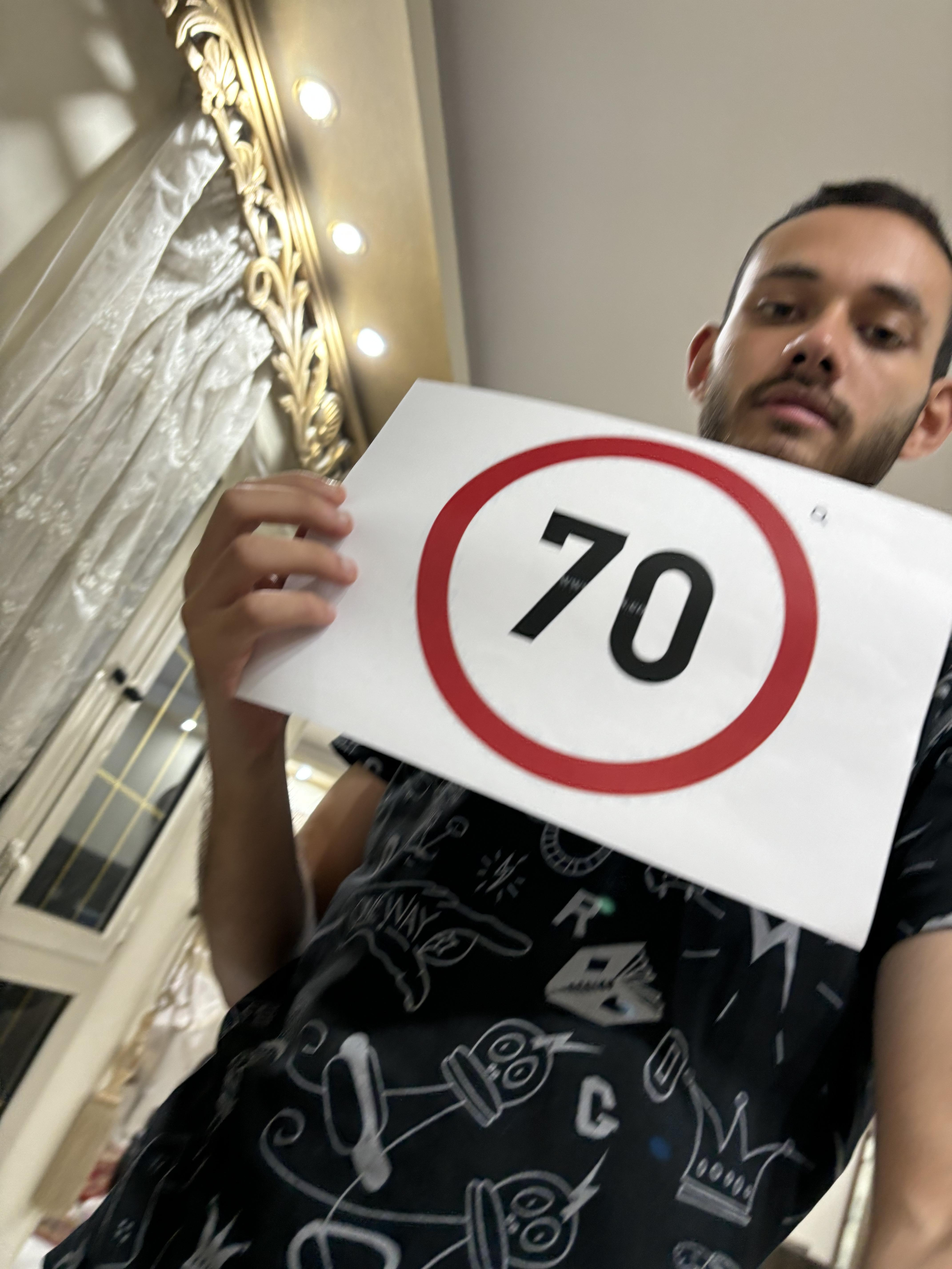70-Speed: (411, 429, 825, 803)
